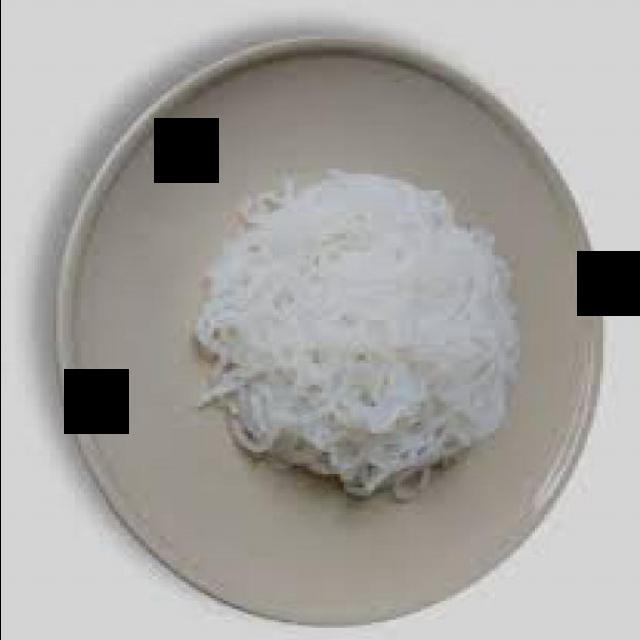rice: (193, 168, 514, 494)
